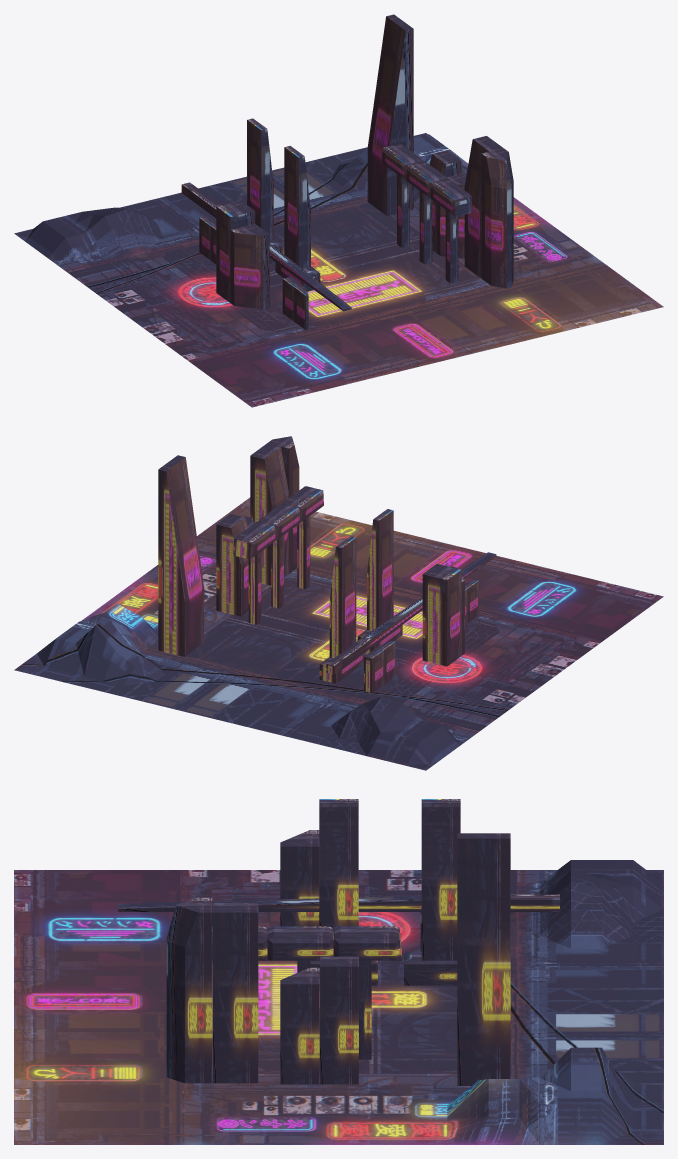
The model's file is scifi_city.obj.
3 renders of one model, top to bottom at view 1: azimuth 30°, elevation 25°; view 2: azimuth 150°, elevation 25°; view 3: azimuth 270°, elevation 25°, orthographic. The views are drawn at different scales.
Visible parts, largest first — view 1: Plane; view 2: Plane; view 3: Plane.
Boxes of the visible parts, x1,y1,x2,y2 form: Plane: (14, 14, 663, 407); Plane: (14, 436, 663, 770); Plane: (14, 799, 663, 1144).
Bounding box in the file's own units: 100 × 42 × 100.
